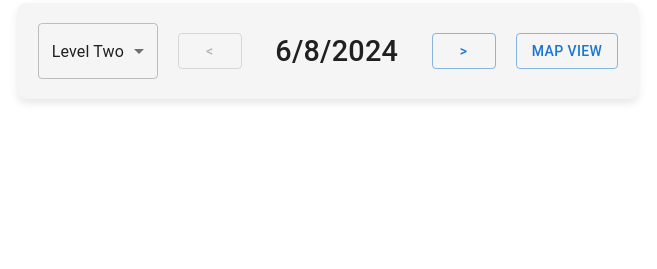
Dashboard Component › level selection works correctly
Step 1. Click the dropdown "Level Two" → [88, 51], box [52,42,124,60]
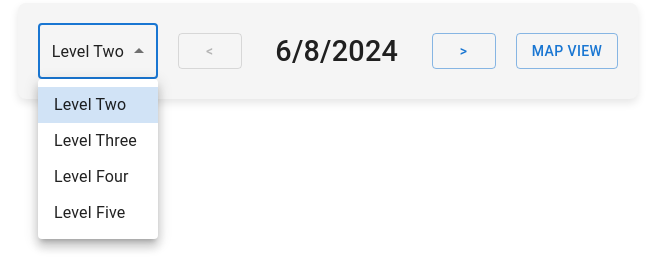
Step 2. Click the option "Level Four" → [91, 176], box [54,167,128,186]
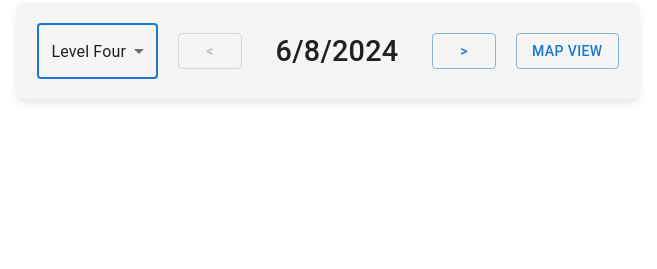
Expected: the dropdown "Level Two" is gone
Expected: the dropdown "Level Four" is shown, [51,42,126,60]
Expected: the option "Level Three" is gone
